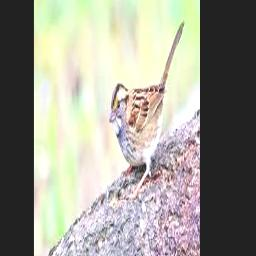Sparrow: (110, 21, 185, 199)
